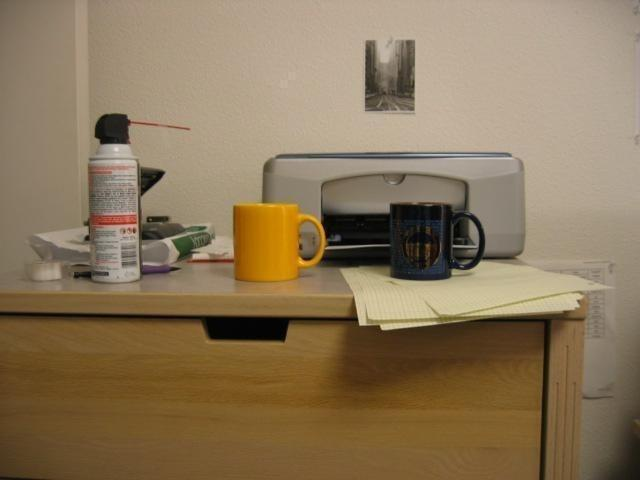cup-handle: (389, 199, 485, 281), (229, 202, 325, 284)
gym bottle: (86, 113, 145, 284)
